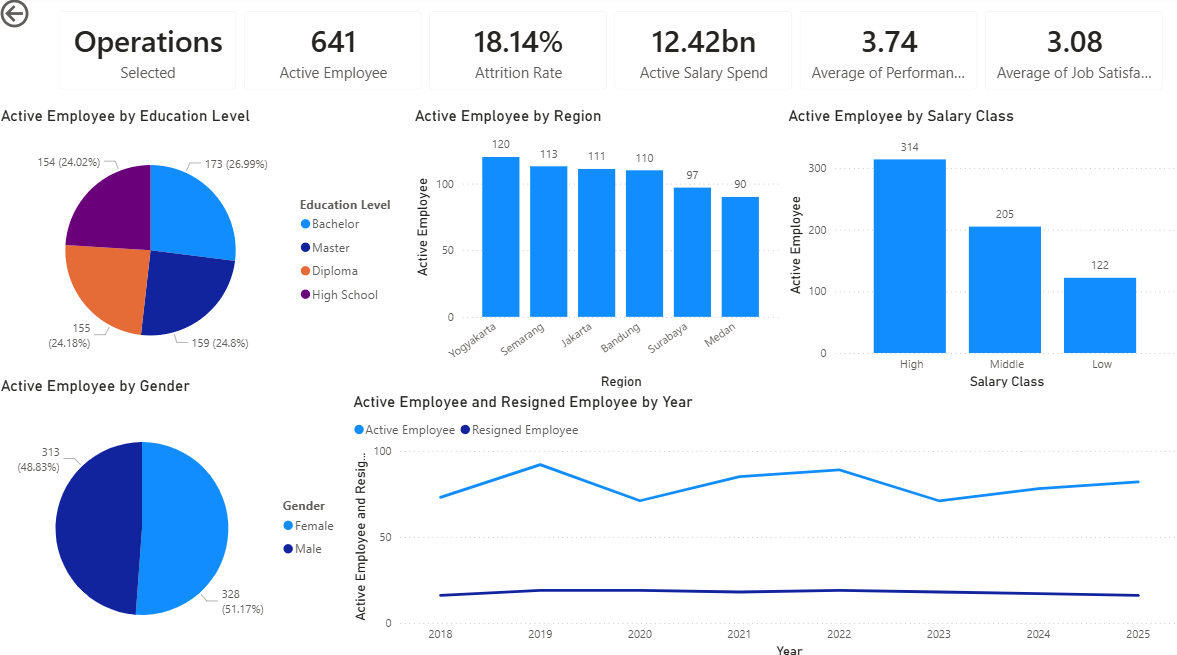

What the dashboard file says about the page in this screenshot:
{"tool":"powerbi","page":{"name":"Department Insight","canvas":[1280,720],"ordinal":1},"visuals":[{"type":"actionButton","box":[0,0,100,40],"z":0},{"type":"cardVisual","fields":{"Data":["DimDepartment.Selected","HR Data.Active Employee","HR Data.Attrition Rate","HR Data.Active Salary Spend","Avg(HR Data.Performance Score)","Avg(HR Data.Job Satisfaction)"]},"box":[50.2,0,1230.6,119.8],"z":1000},{"type":"pieChart","fields":{"Category":["HR Data.Gender"],"Y":["HR Data.Active Employee"]},"box":[0,411.3,380.5,309.3],"z":2000},{"type":"pieChart","fields":{"Category":["HR Data.Education Level"],"Y":["HR Data.Active Employee"]},"box":[0,119.8,446.9,291.5],"z":3000},{"type":"clusteredColumnChart","fields":{"Category":["HR Data.Region"],"Y":["HR Data.Active Employee"]},"box":[446.9,119.8,403.2,309.3],"z":4000},{"type":"lineChart","fields":{"Category":["DimDate.Year"],"Y":["HR Data.Active Employee","HR Data.Resigned Employee"]},"box":[380.5,429.1,900.3,291.5],"z":5000},{"type":"clusteredColumnChart","fields":{"Category":["HR Data.Salary Class"],"Y":["HR Data.Active Employee"]},"box":[850.1,119.8,430.7,309.3],"z":6000}]}

Visuals, with their boxes in screenshot pixels (x1, y1, x2, y2), scaled from the page's 1280x720 canvas onto the 1177x655 screenshot:
actionButton: 0 0 92 36
cardVisual - DimDepartment.Selected x HR Data.Active Employee: 46 0 1176 109
pieChart - HR Data.Gender x HR Data.Active Employee: 0 374 350 654
pieChart - HR Data.Education Level x HR Data.Active Employee: 0 109 411 374
clusteredColumnChart - HR Data.Region x HR Data.Active Employee: 411 109 782 390
lineChart - DimDate.Year x HR Data.Active Employee: 350 390 1176 654
clusteredColumnChart - HR Data.Salary Class x HR Data.Active Employee: 782 109 1176 390
